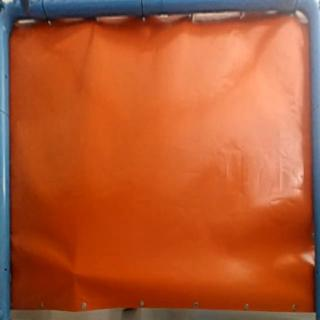Hit-hRxx: (64, 266, 82, 280)
